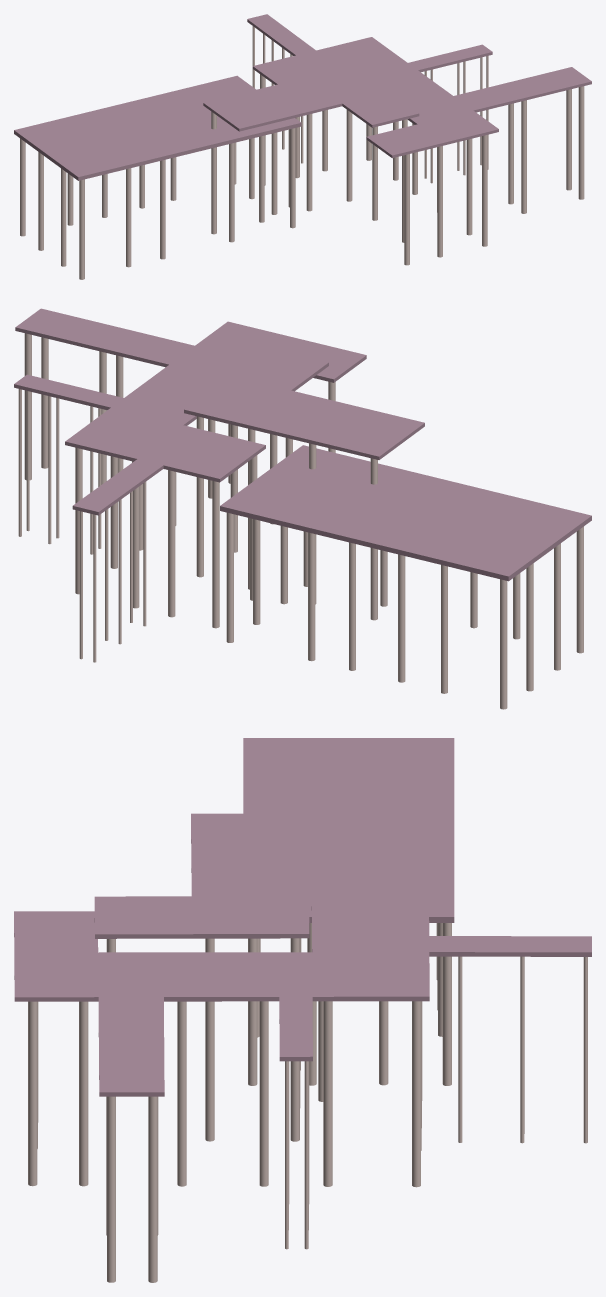
Rendered from SM_Harbor_001.fbx.
3 renders of one model, top to bottom at view 1: azimuth 30°, elevation 25°; view 2: azimuth 150°, elevation 25°; view 3: azimuth 270°, elevation 25°, orthographic. The views are drawn at different scales.
Visible parts, largest first — view 1: SM_Harbor_001; view 2: SM_Harbor_001; view 3: SM_Harbor_001.
Part boxes in pixels (box(x1,y1,x2,y2)): SM_Harbor_001: box(14, 14, 591, 279); SM_Harbor_001: box(14, 308, 591, 709); SM_Harbor_001: box(14, 738, 591, 1282).
Bounding box in the file's own units: 5347 × 1409 × 3473.
